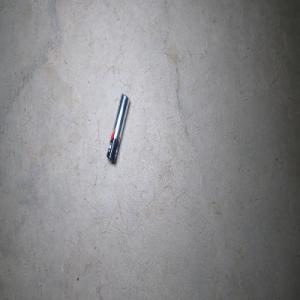Battery: (106, 92, 129, 163)
